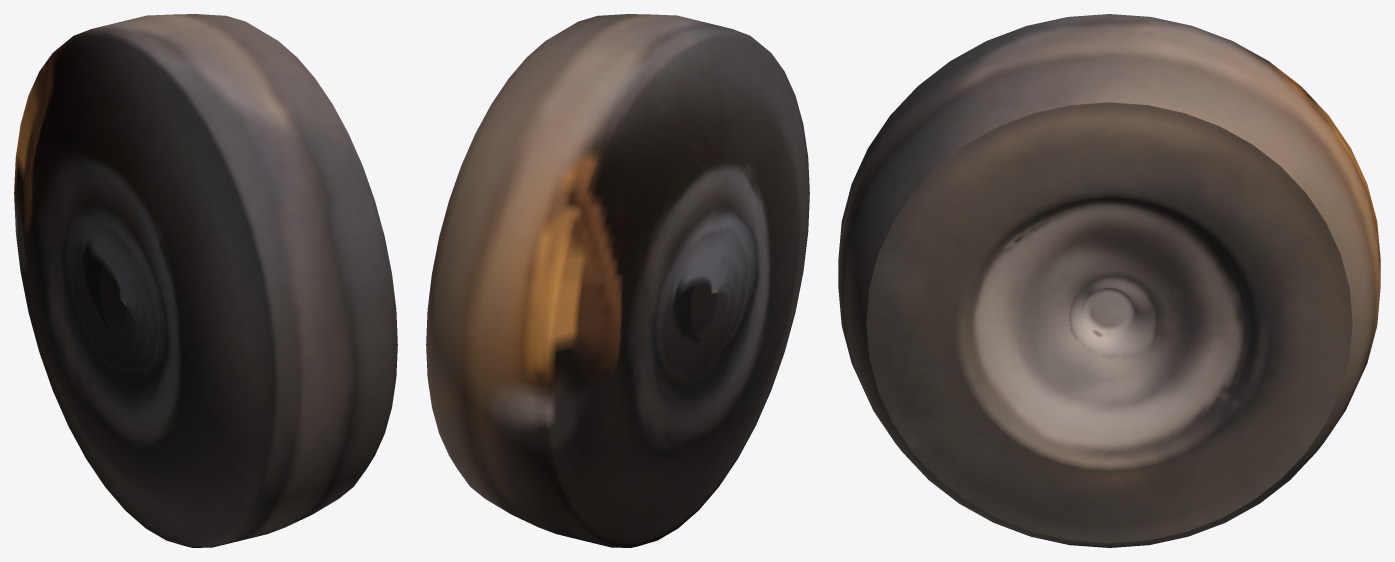
3 views of the same model, side by side, from view 1: azimuth 30°, elevation 25°; view 2: azimuth 150°, elevation 25°; view 3: azimuth 270°, elevation 25° (orthographic).
Parts seen in each view (by area): view 1: wheel_FL; view 2: wheel_FL; view 3: wheel_FL.
Boxes of the visible parts, x1,y1,x2,y2 form: wheel_FL: (14,14,397,547); wheel_FL: (426,14,809,547); wheel_FL: (838,14,1380,547).
Size of the model in its own units: 0.137 by 0.35 by 0.35.
1 material, 1 textured.
